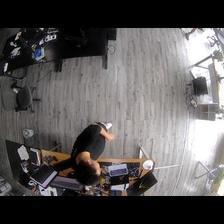normal: (71, 121, 115, 186)
